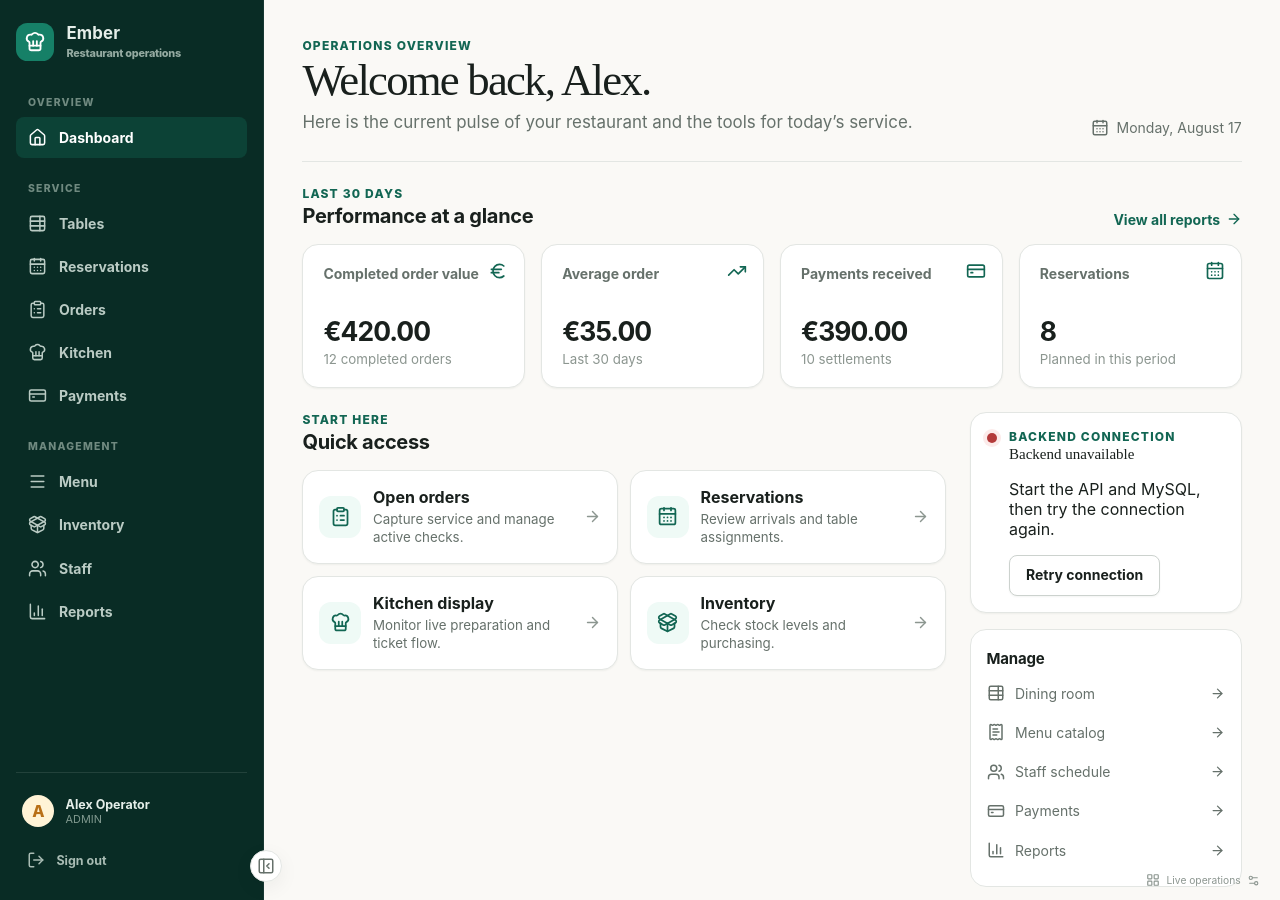
Scenario: authentication routing › successful logout clears access and redirects to login
The width and height of the screenshot is (1280, 900).
Expected: the heading "Welcome back, Alex." is shown, [302,55,650,105]
What coordinates should you click on to do the following:
click the button "Sign out"
I would click on:
 (132, 860)
Its box is [16,840,247,880].
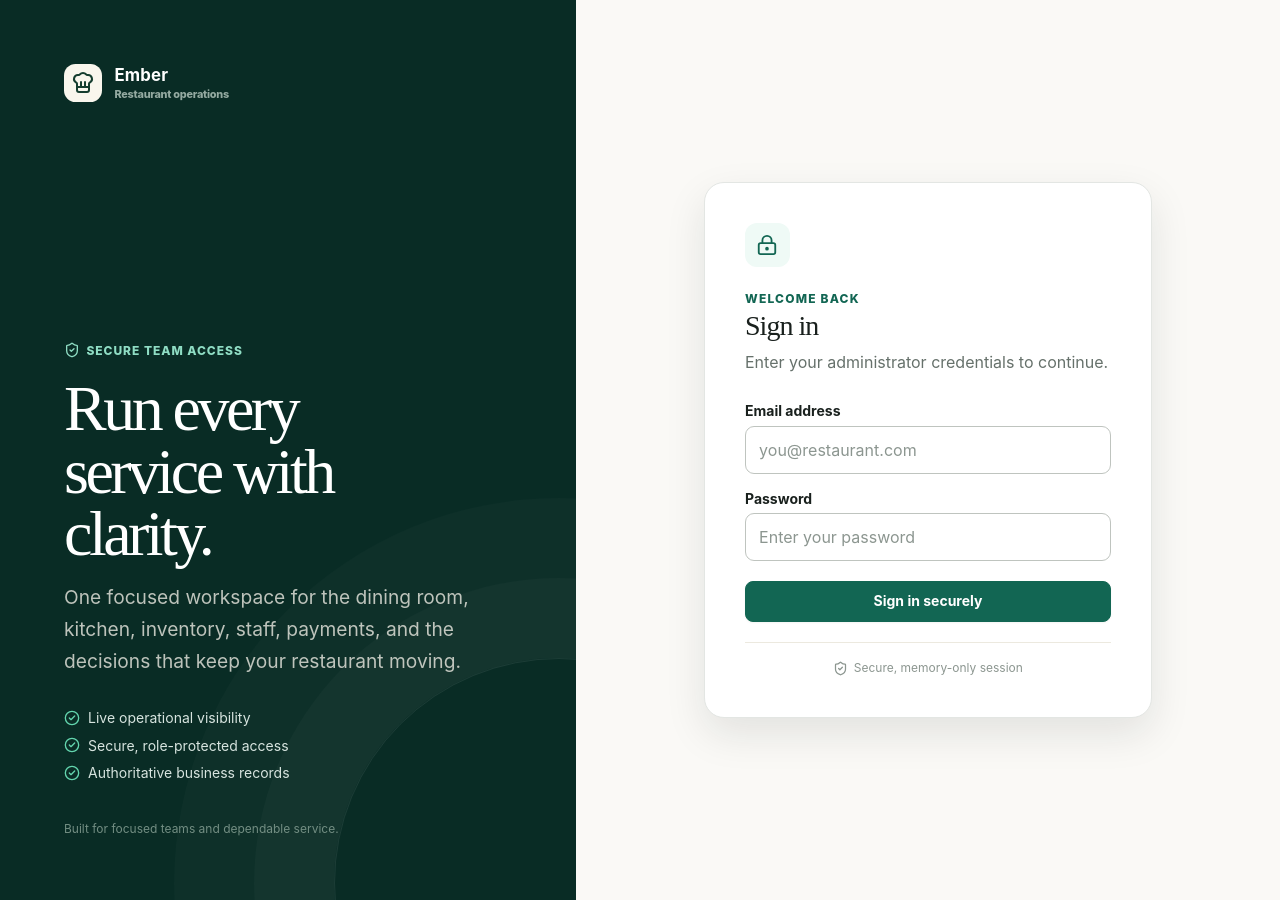
Now the heading "Sign in" is shown, box [745,310,818,341]
